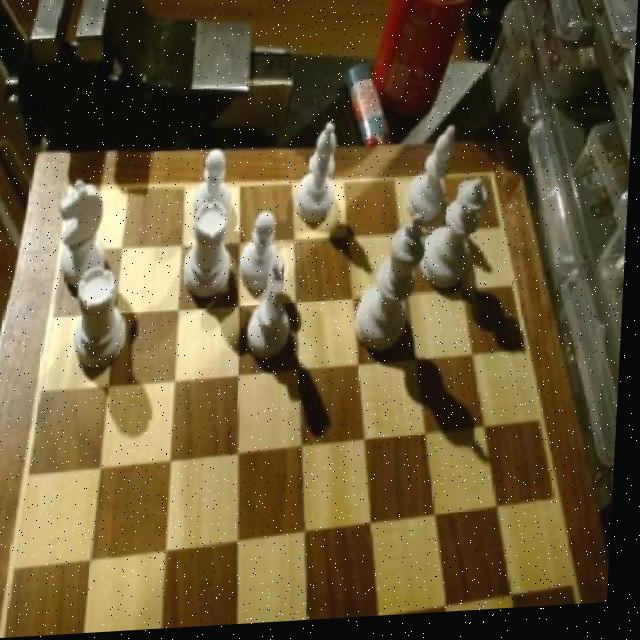black-rook: (406, 128, 460, 233), (295, 119, 345, 230)
white-bishop: (355, 212, 434, 358)
white-king: (58, 179, 115, 294), (248, 262, 298, 369)
white-knight: (241, 208, 282, 293), (194, 150, 238, 227)
white-pawn: (422, 183, 495, 299)
white-queen: (76, 269, 133, 378), (186, 206, 237, 309)
